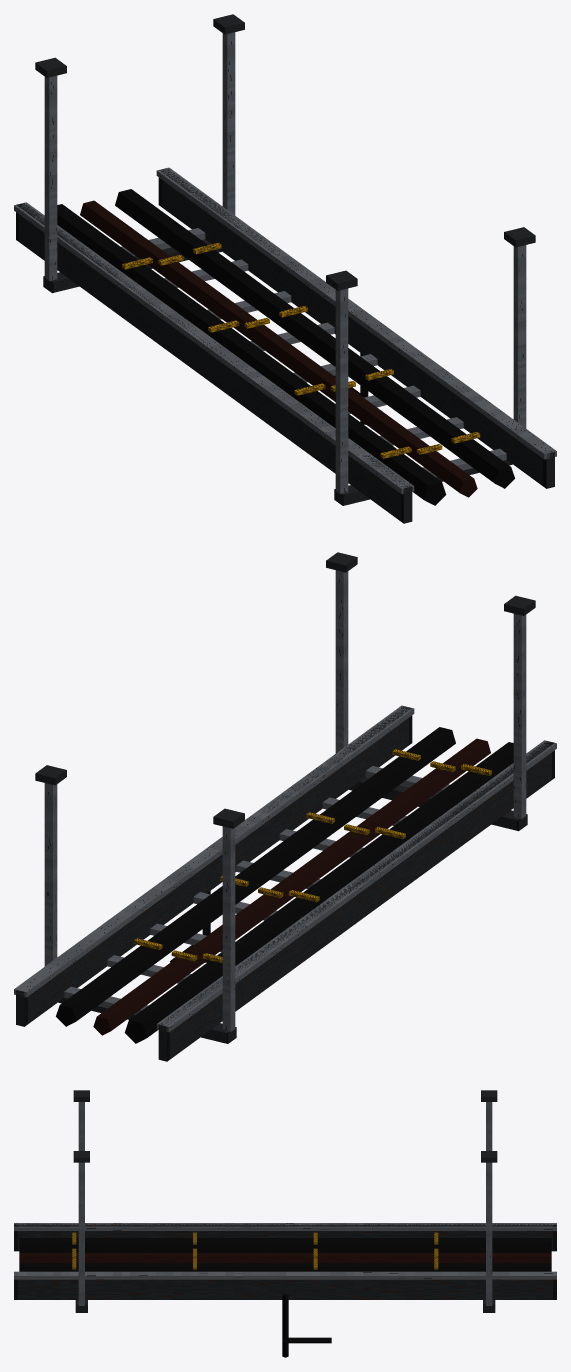
The model's file is cable_tray.glb.
The picture shows the model from 3 angles, top to bottom: view 1: azimuth 30°, elevation 25°; view 2: azimuth 150°, elevation 25°; view 3: azimuth 270°, elevation 25°; orthographic projection. The views are drawn at different scales.
Parts seen in each view (by area): view 1: cable_tray; view 2: cable_tray; view 3: cable_tray.
Part boxes in pixels (bbox=[...]): cable_tray: bbox=[14, 14, 556, 523]; cable_tray: bbox=[14, 552, 556, 1061]; cable_tray: bbox=[14, 1090, 556, 1357].
Size of the model in its own units: 0.59 by 0.835 by 2.
1 material, 1 textured.
